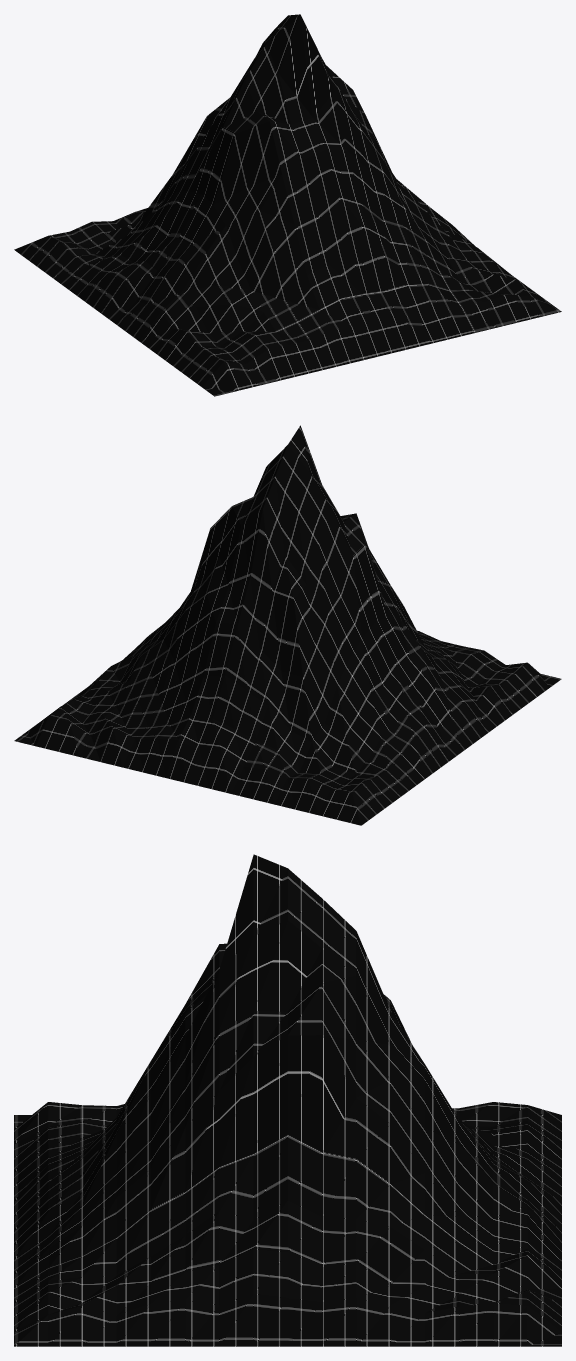
Rendered from Mesh_Mountain-02.fbx.
3 renders of one model, top to bottom at view 1: azimuth 30°, elevation 25°; view 2: azimuth 150°, elevation 25°; view 3: azimuth 270°, elevation 25°, orthographic. The views are drawn at different scales.
Parts seen in each view (by area): view 1: Mesh_Mountain-02_LOD0; view 2: Mesh_Mountain-02_LOD0; view 3: Mesh_Mountain-02_LOD0.
Part boxes in pixels (x1=…): Mesh_Mountain-02_LOD0: x1=14, y1=14, x2=561, y2=396; Mesh_Mountain-02_LOD0: x1=14, y1=425, x2=561, y2=825; Mesh_Mountain-02_LOD0: x1=14, y1=854, x2=561, y2=1346.
Size of what is drawn, in the model's own units: 36.86 by 27.95 by 36.86.
